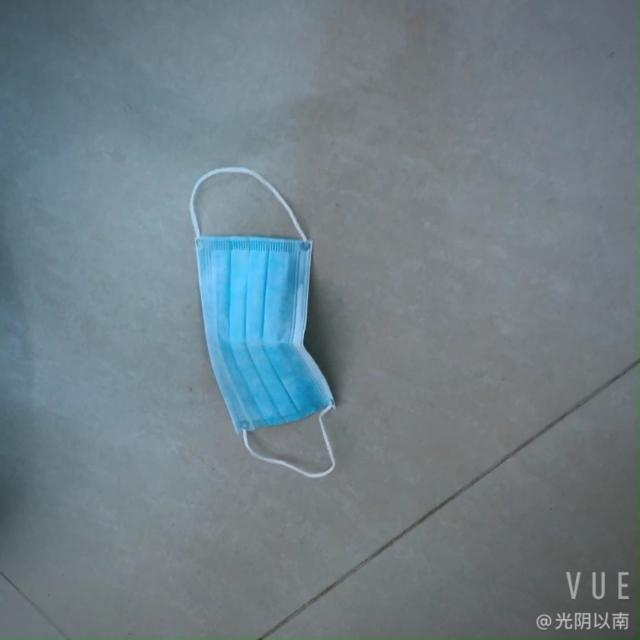non-organic waste: (187, 201, 354, 488)
